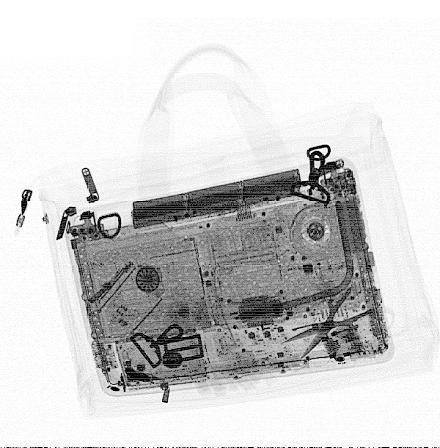Scissors: (274, 283, 380, 360)
